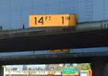1: (59, 14, 66, 26), (33, 15, 38, 26)
4: (36, 15, 45, 26)
overheadsign: (29, 14, 76, 27)
